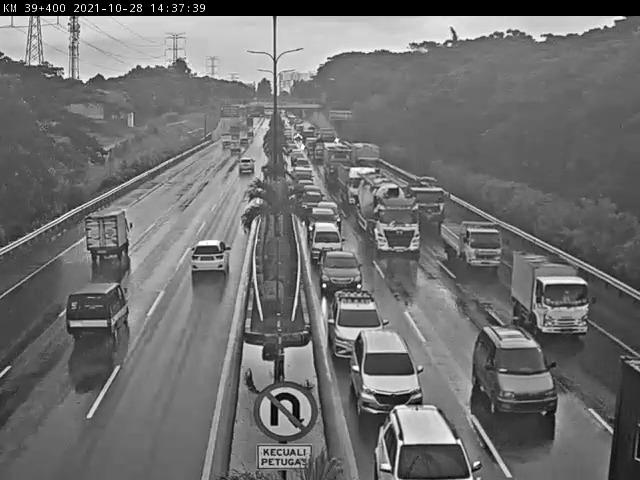big truck: (352, 175, 417, 252), (398, 162, 448, 224)
car: (369, 404, 483, 480), (470, 330, 560, 417), (58, 279, 145, 353), (345, 331, 426, 408), (326, 287, 391, 353), (313, 245, 365, 293), (182, 235, 231, 280), (299, 218, 346, 258), (233, 157, 259, 179)
small truck: (509, 244, 597, 333), (431, 210, 498, 267), (76, 206, 138, 258)
